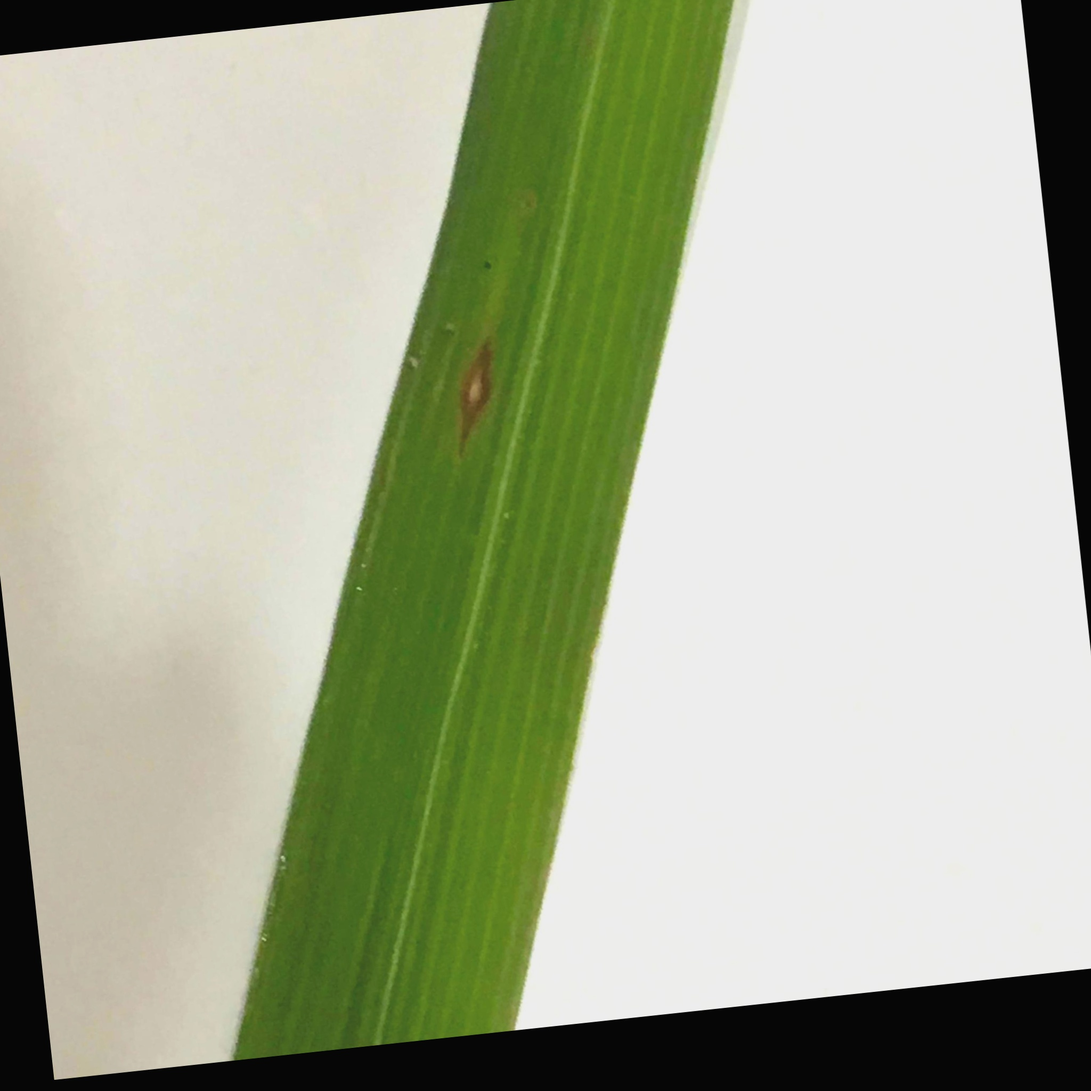Brown_Spot: (439, 274, 508, 469)
